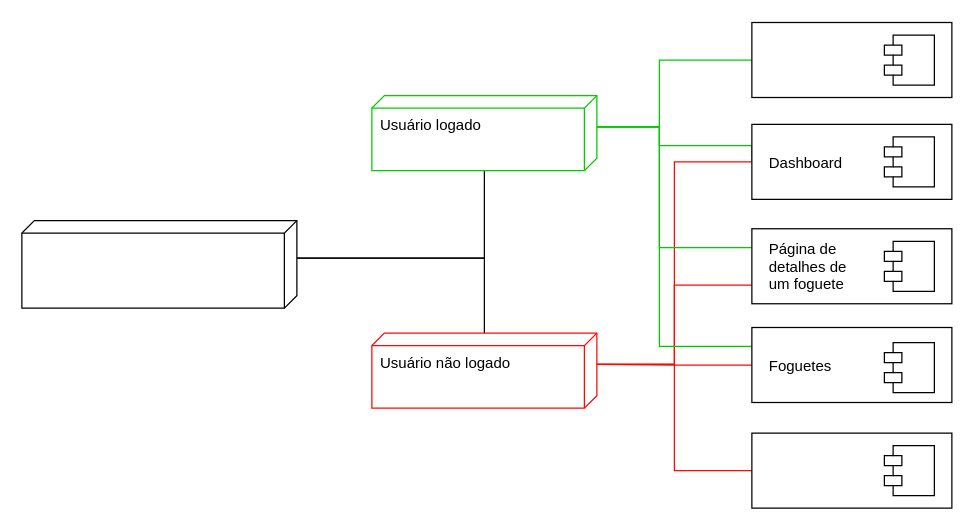
This 974x530 diagram has some shape labels left out. The shapes that lost their labels are listed below. From the top down, each one's box as (x1, y1, x2, y2) in pixels, then its label:
(751, 21, 952, 98): Perfil
(21, 219, 297, 308): Aplicação Web RocketX Board
(751, 432, 952, 508): Login/Cadastro
